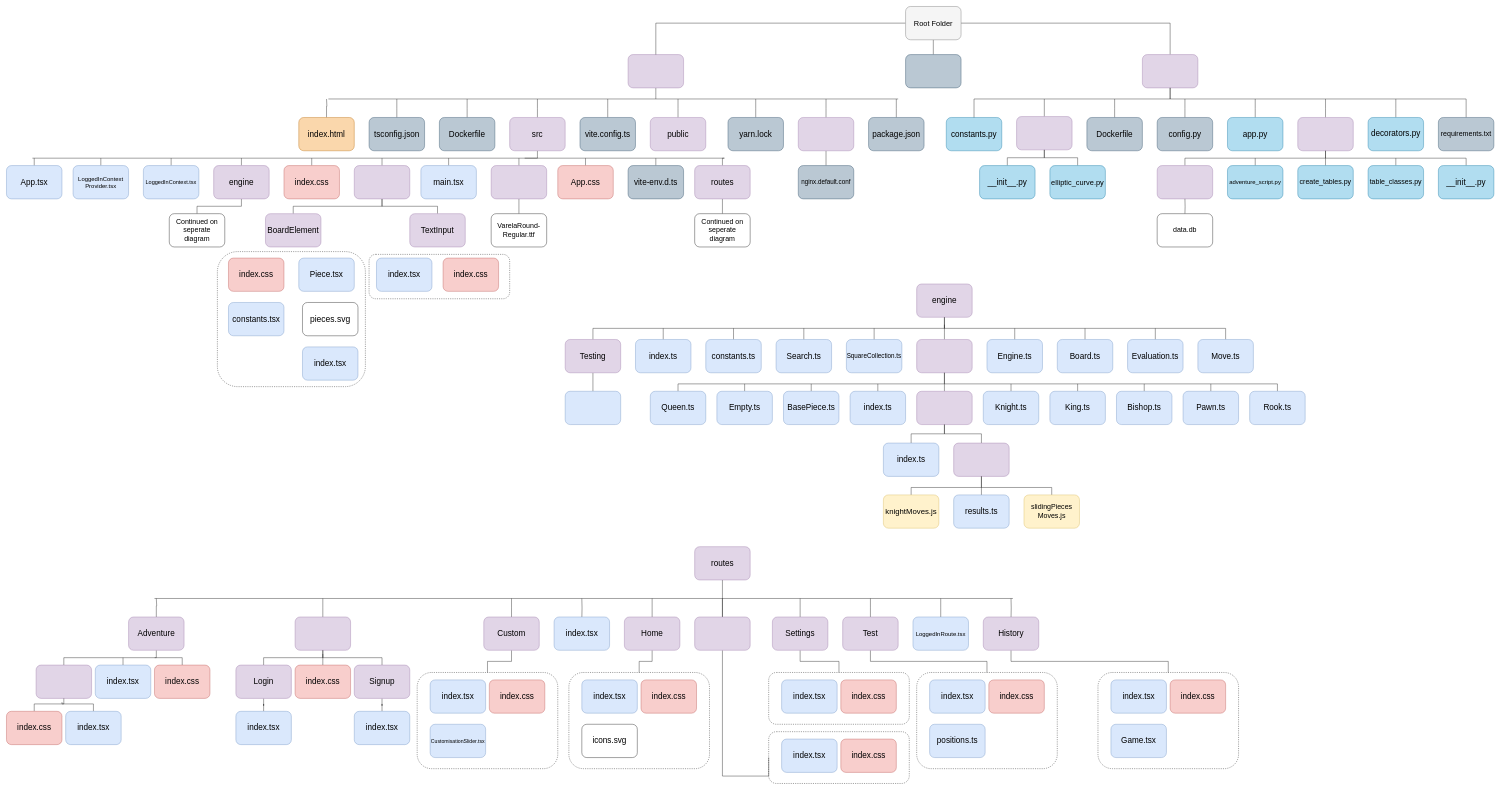
Image size: 1500x790. Some labels were removed from this diagram. Here are the shapes that lost their labels. From the top down, the centre of each, then its label:
At point (656, 71): "Frontend".
At point (933, 71): "docker-comopse.yaml".
At point (1170, 71): "Backend".
At point (826, 134): "deployment".
At point (1044, 133): "crypto_auth".
At point (1325, 134): "database".
At point (382, 182): "componets".
At point (519, 182): "assets".
At point (1185, 182): "data".
At point (944, 356): "Pieces".
At point (593, 408): "perftTestings.ts".
At point (944, 408): "utils".
At point (981, 459): "precalculations".
At point (323, 633): "Authentication".
At point (722, 633): "Review".
At point (64, 681): "AdventureResults".
